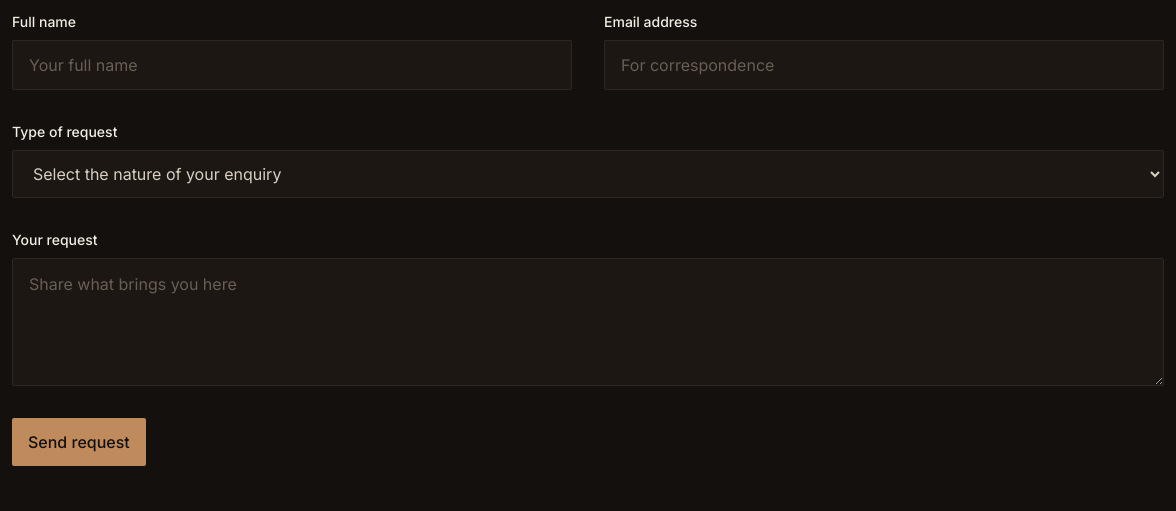
Test: RequestForm — submitting › blocks a malformed email
Type "Thandi Mokoena" into the field labelled "Full name".
click(292, 65); type("Thandi Mokoena")  # box [12,40,572,90]
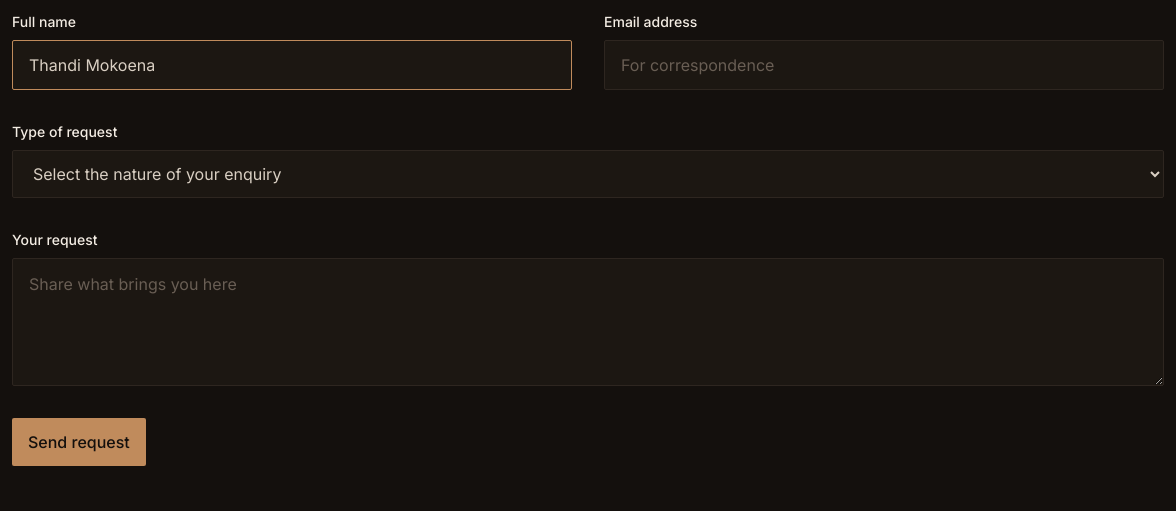
Type "invalid@" into the field labelled "Email address".
click(884, 65); type("invalid@")  # box [604,40,1164,90]
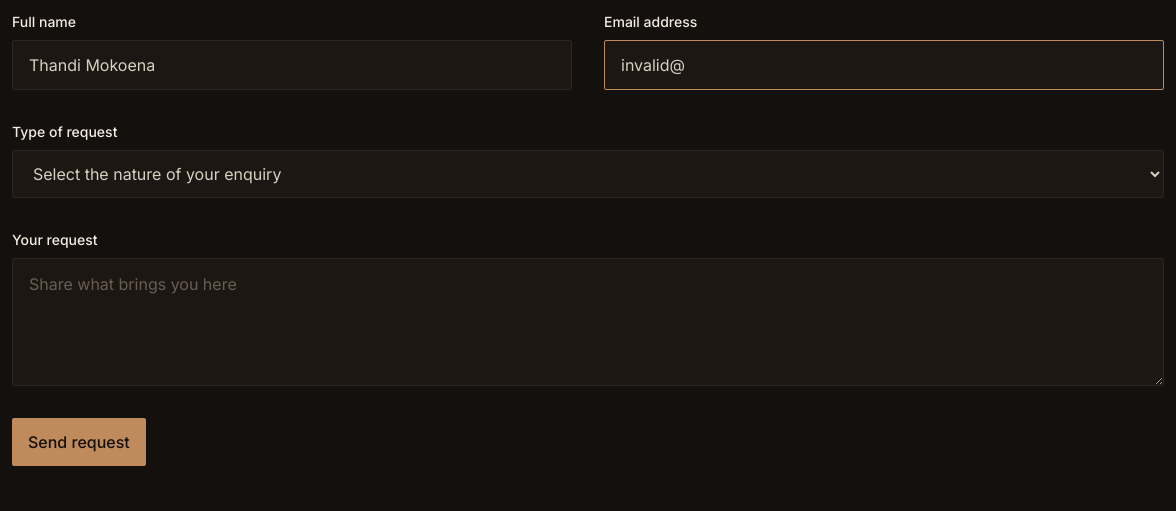
Select "Artwork enquiry" in the dropdown labelled "Type of request" at (588, 174), box [12,150,1164,198]
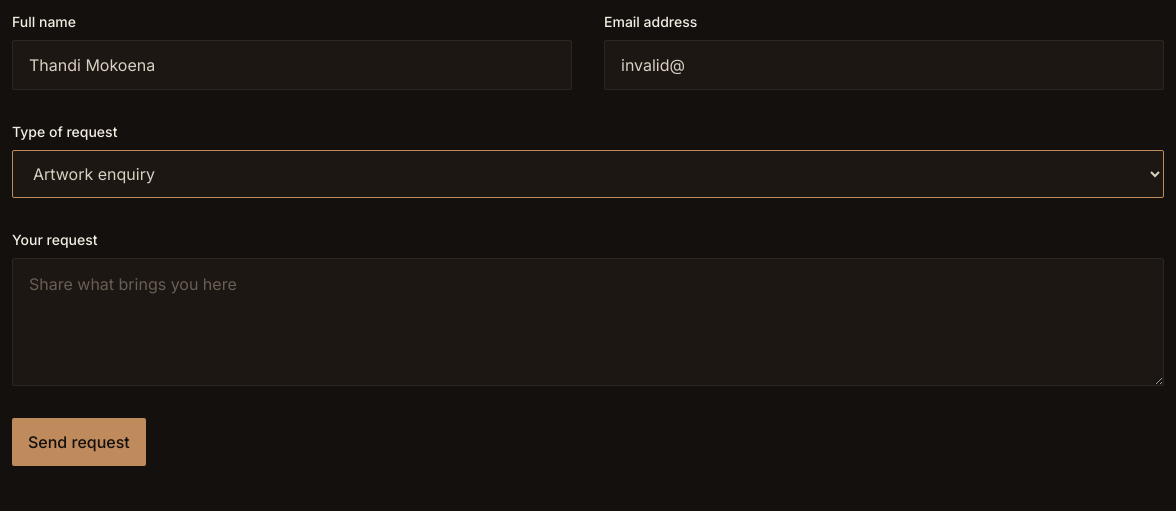
Type "Enquiry" into the text box labelled "Your request".
click(588, 322); type("Enquiry")  # box [12,258,1164,386]
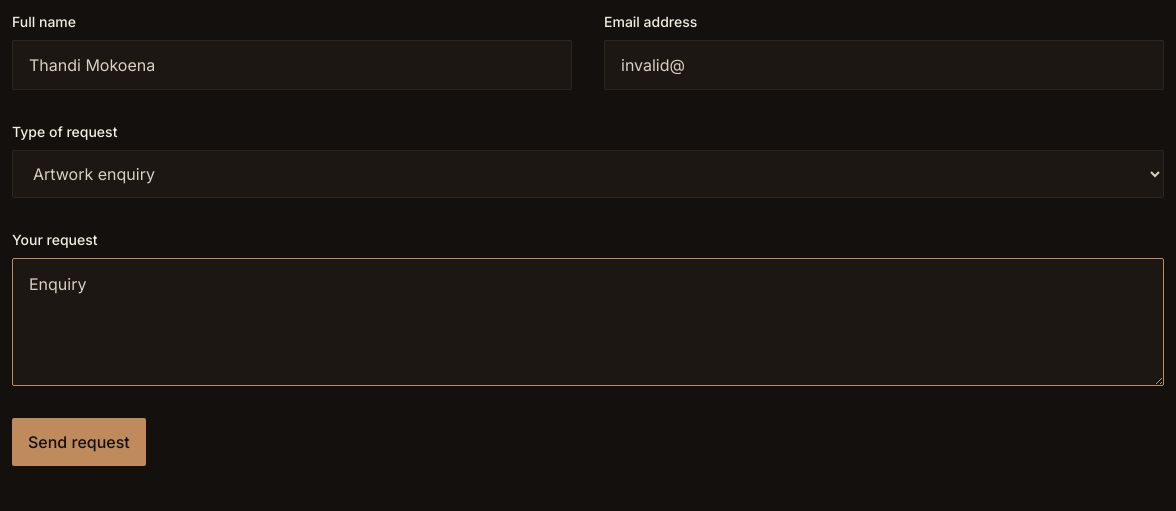
Click the button "Send request".
click(79, 442)  # box [12,418,146,466]
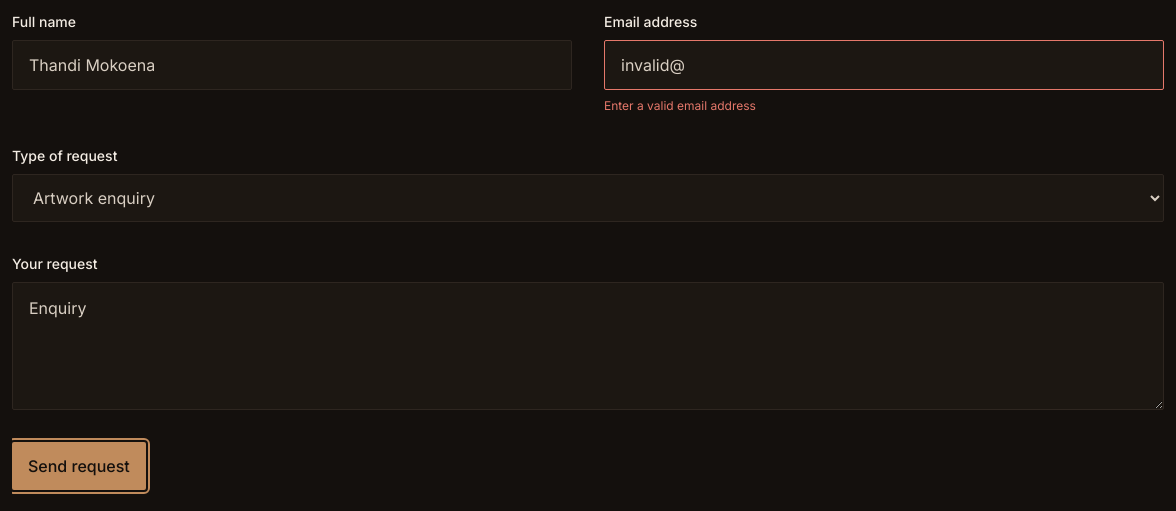
Check: the text "Enter a valid email address" is shown, box [604,98,756,113]
